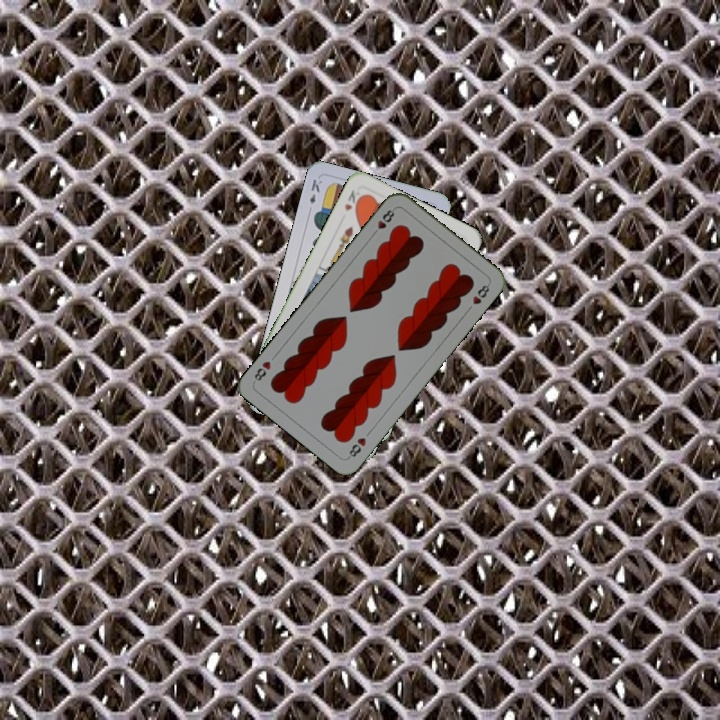EK: (305, 175, 325, 207)
H8: (368, 204, 397, 239), (344, 433, 369, 461)
HK: (340, 186, 366, 214)
